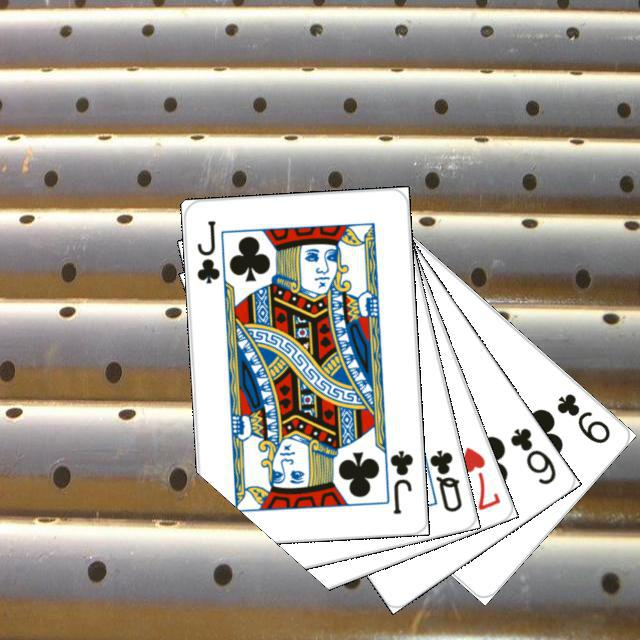6c: (505, 423, 558, 487)
7h: (456, 442, 503, 512)
9c: (551, 388, 612, 446)
Jc: (385, 445, 415, 516), (192, 215, 222, 286)
Qc: (416, 442, 464, 514)
